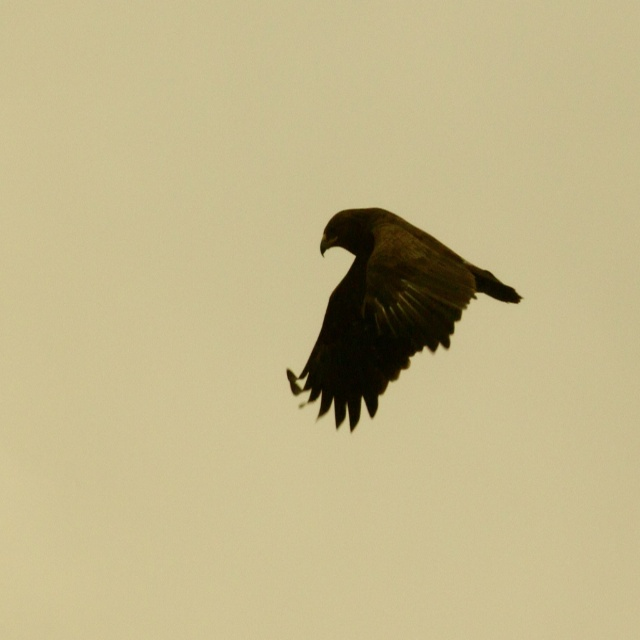Eagle: (286, 207, 521, 426)
